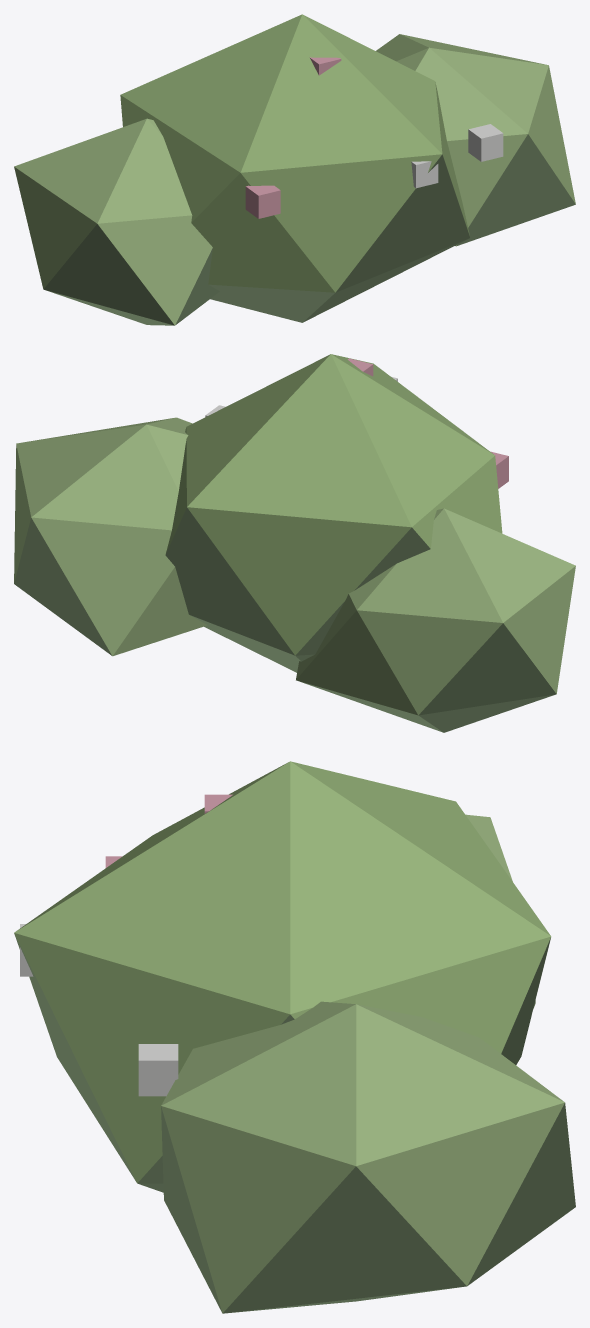
Rendered from rail_bush.glb.
3 renders of one model, top to bottom at view 1: azimuth 30°, elevation 25°; view 2: azimuth 150°, elevation 25°; view 3: azimuth 270°, elevation 25°, orthographic. The views are drawn at different scales.
Size of the model in its own units: 1.35 by 0.7961 by 0.8524.
